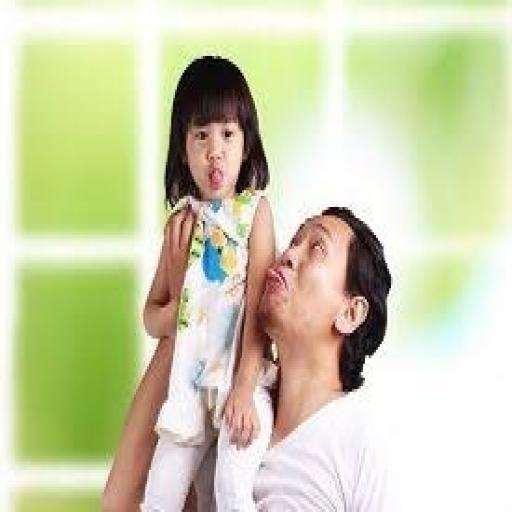hugging: (98, 202, 394, 510)
